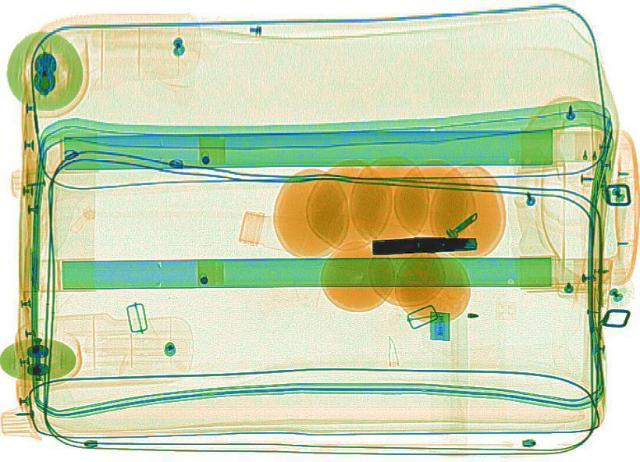Gun: (370, 233, 478, 251)
